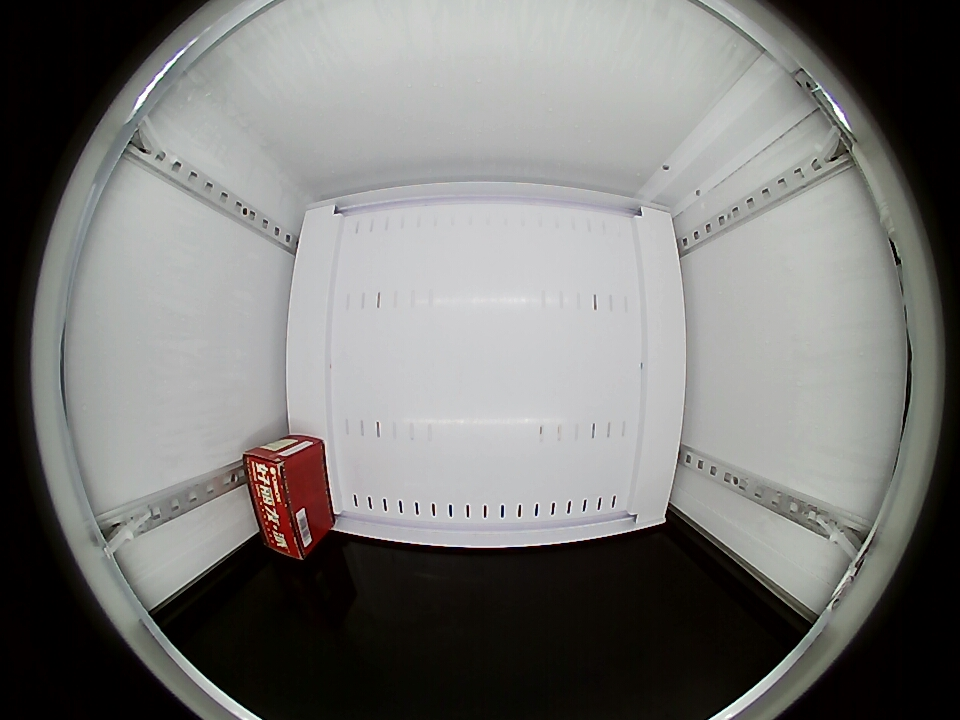haoliyou: (243, 442, 326, 559)
